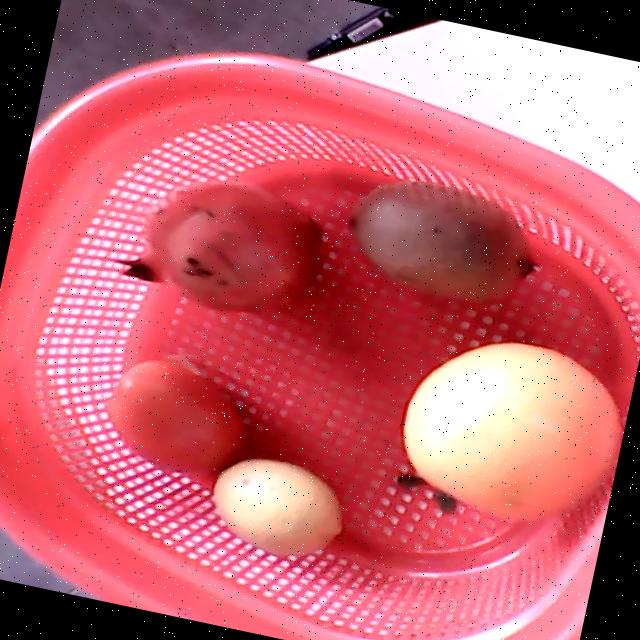kiwi: (344, 181, 536, 296)
lemon: (214, 457, 339, 554)
orange: (395, 341, 622, 521)
pomegranate: (116, 182, 322, 313)
tomato: (105, 360, 244, 478)
